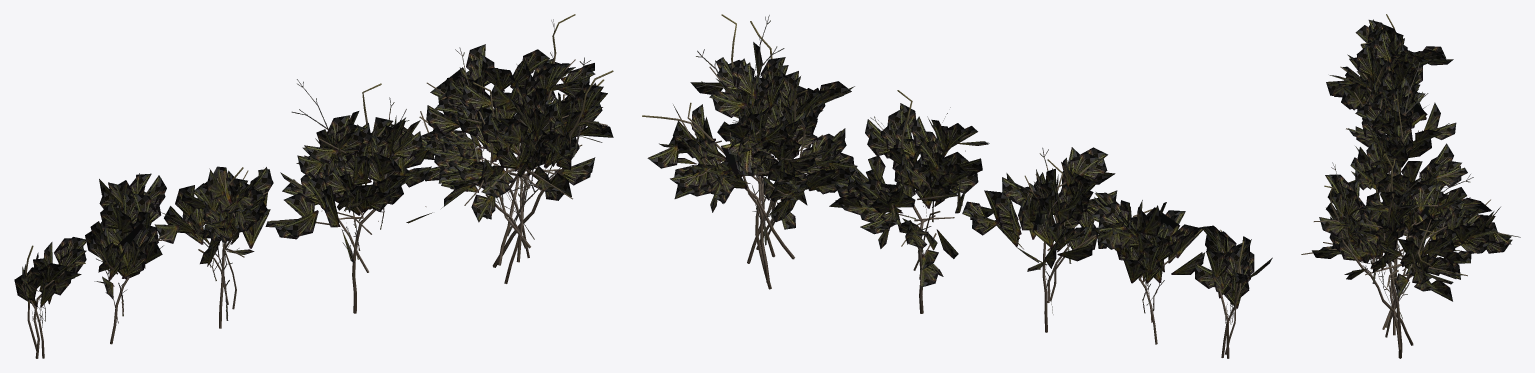
The model's file is wild_rooibos_bush.glb.
The picture shows the model from 3 angles, left to right: view 1: azimuth 30°, elevation 25°; view 2: azimuth 150°, elevation 25°; view 3: azimuth 270°, elevation 25°; orthographic projection. The views are drawn at different scales.
Parts seen in each view (by area): view 1: wild_rooibos_bush_a.002, wild_rooibos_bush_b.002, wild_rooibos_bush_c.002, wild_rooibos_bush_d.002, wild_rooibos_bush_a, wild_rooibos_bush_e.002, wild_rooibos_bush_a.001, wild_rooibos_bush_b, wild_rooibos_bush_c, wild_rooibos_bush_e, wild_rooibos_bush_b.001; view 2: wild_rooibos_bush_a.002, wild_rooibos_bush_b.002, wild_rooibos_bush_c.002, wild_rooibos_bush_d.002, wild_rooibos_bush_e.002, wild_rooibos_bush_a, wild_rooibos_bush_b, wild_rooibos_bush_a.001, wild_rooibos_bush_c, wild_rooibos_bush_e; view 3: wild_rooibos_bush_a.002, wild_rooibos_bush_b.002, wild_rooibos_bush_c.002, wild_rooibos_bush_d.002, wild_rooibos_bush_a, wild_rooibos_bush_a.001, wild_rooibos_bush_e.002, wild_rooibos_bush_b.001, wild_rooibos_bush_b.
Boxes of the visible parts, x1,y1,x2,y2 form: wild_rooibos_bush_a.002: [390, 44, 613, 222]; wild_rooibos_bush_b.002: [265, 111, 432, 262]; wild_rooibos_bush_c.002: [154, 166, 273, 267]; wild_rooibos_bush_d.002: [85, 173, 166, 298]; wild_rooibos_bush_a: [402, 14, 613, 283]; wild_rooibos_bush_e.002: [14, 237, 87, 307]; wild_rooibos_bush_a.001: [452, 19, 599, 239]; wild_rooibos_bush_b: [270, 83, 426, 313]; wild_rooibos_bush_c: [198, 167, 267, 328]; wild_rooibos_bush_e: [21, 245, 85, 358]; wild_rooibos_bush_b.001: [291, 79, 409, 260]; wild_rooibos_bush_a.002: [647, 42, 868, 229]; wild_rooibos_bush_b.002: [829, 103, 993, 287]; wild_rooibos_bush_c.002: [962, 147, 1117, 271]; wild_rooibos_bush_d.002: [1091, 192, 1205, 283]; wild_rooibos_bush_e.002: [1195, 225, 1272, 308]; wild_rooibos_bush_a: [642, 14, 833, 289]; wild_rooibos_bush_b: [885, 90, 972, 313]; wild_rooibos_bush_a.001: [696, 15, 832, 245]; wild_rooibos_bush_c: [996, 157, 1100, 332]; wild_rooibos_bush_e: [1213, 229, 1244, 358]; wild_rooibos_bush_a.002: [1312, 161, 1520, 301]; wild_rooibos_bush_b.002: [1327, 88, 1467, 203]; wild_rooibos_bush_c.002: [1326, 45, 1456, 154]; wild_rooibos_bush_d.002: [1347, 32, 1453, 91]; wild_rooibos_bush_a: [1301, 153, 1507, 358]; wild_rooibos_bush_a.001: [1331, 162, 1473, 327]; wild_rooibos_bush_e.002: [1355, 19, 1407, 60]; wild_rooibos_bush_b.001: [1372, 62, 1428, 184]; wild_rooibos_bush_b: [1380, 98, 1457, 283].
Bounding box in the file's own units: 2.33 × 0.9432 × 0.8216.
3 materials, 3 textured.
